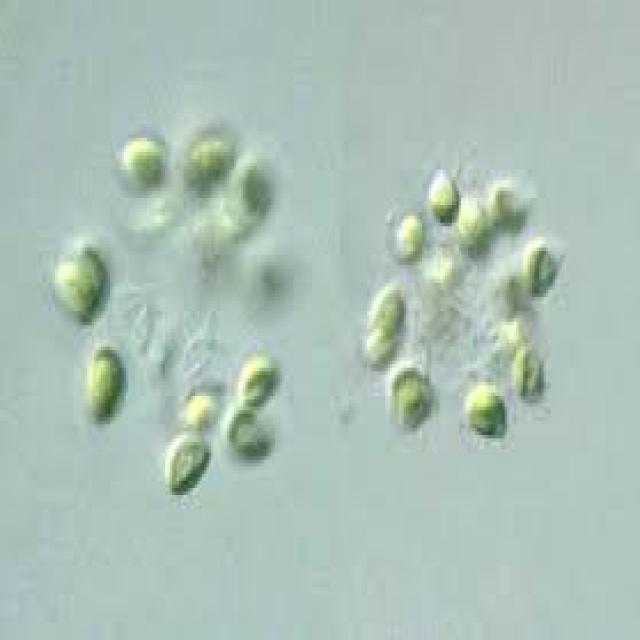Green Algae: (85, 343, 126, 431), (167, 439, 211, 502), (461, 386, 507, 446), (120, 134, 168, 191), (53, 258, 92, 325), (454, 195, 489, 258), (236, 357, 280, 407), (390, 212, 429, 265), (426, 166, 456, 234), (523, 240, 557, 300), (395, 375, 429, 435), (511, 347, 546, 403)
